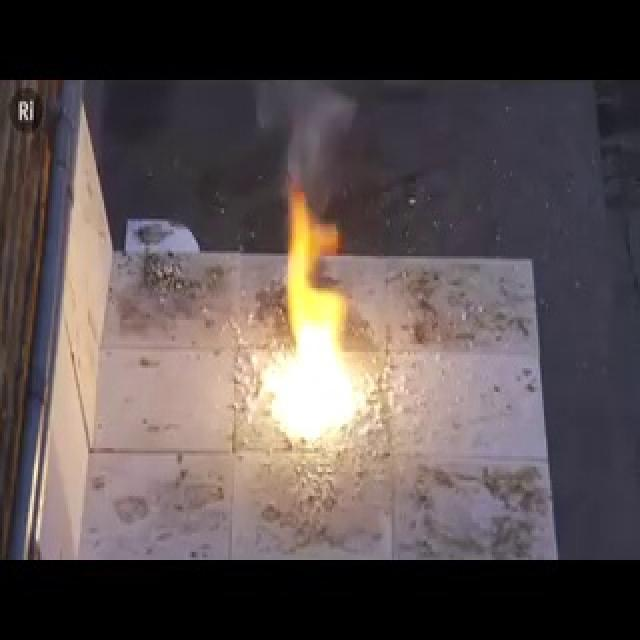fire: (174, 165, 384, 488)
